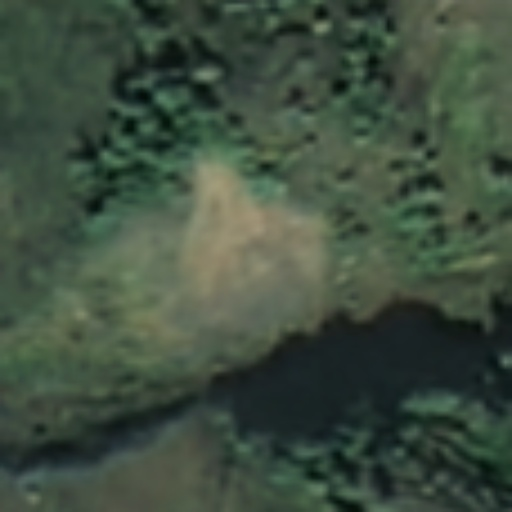landslide: (181, 148, 330, 293)
